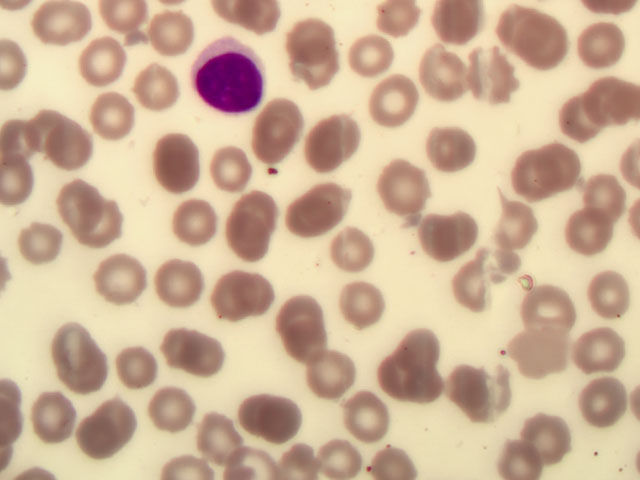RBC: (72, 33, 137, 90), (130, 59, 195, 116), (83, 79, 148, 136), (55, 118, 120, 175), (14, 104, 79, 161), (4, 159, 69, 216), (47, 175, 112, 232), (23, 211, 88, 268), (77, 207, 142, 264), (87, 251, 152, 308), (57, 325, 122, 382), (34, 380, 99, 437), (80, 401, 145, 458), (97, 333, 162, 390), (160, 322, 225, 379), (150, 253, 215, 310), (163, 185, 228, 242), (151, 135, 216, 192), (202, 136, 267, 193), (234, 103, 299, 160), (312, 107, 377, 164), (366, 73, 431, 130), (342, 29, 407, 86), (287, 45, 352, 102), (282, 2, 347, 59), (271, 189, 336, 246), (222, 175, 287, 232), (225, 211, 290, 268), (194, 269, 259, 326), (233, 262, 298, 319), (272, 280, 337, 337), (275, 316, 340, 373), (294, 344, 359, 401), (336, 282, 401, 339), (326, 228, 391, 285), (375, 162, 440, 219), (422, 121, 487, 178), (414, 44, 479, 101), (467, 43, 532, 100), (499, 5, 564, 62), (417, 2, 482, 59), (564, 16, 629, 73), (539, 93, 604, 150), (575, 65, 640, 122), (537, 139, 602, 196), (508, 150, 573, 207), (485, 195, 550, 252), (423, 211, 488, 268), (560, 206, 625, 263), (568, 172, 633, 229), (575, 264, 640, 321), (513, 277, 578, 334), (516, 323, 581, 380), (575, 327, 640, 384), (575, 363, 640, 420), (531, 400, 596, 457), (496, 423, 561, 480), (450, 363, 515, 420), (407, 358, 472, 415), (362, 350, 427, 407), (390, 306, 455, 363), (256, 391, 321, 448), (271, 408, 336, 465), (194, 410, 259, 467), (336, 384, 401, 441), (30, 1, 95, 57), (314, 433, 366, 480), (145, 385, 197, 432)
WBC: (193, 36, 268, 112)
